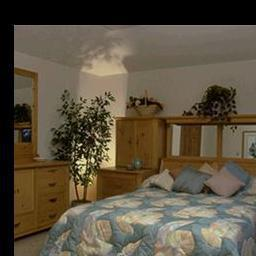Matera: (57, 94, 113, 203)
